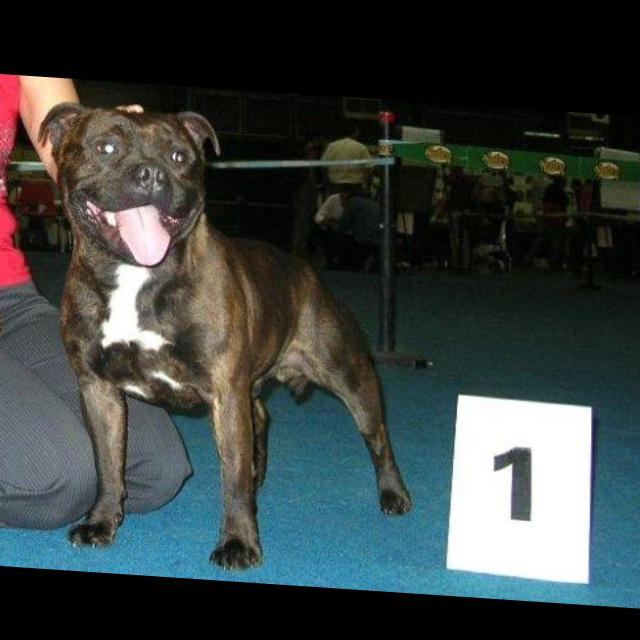staffford: (37, 97, 413, 579)
